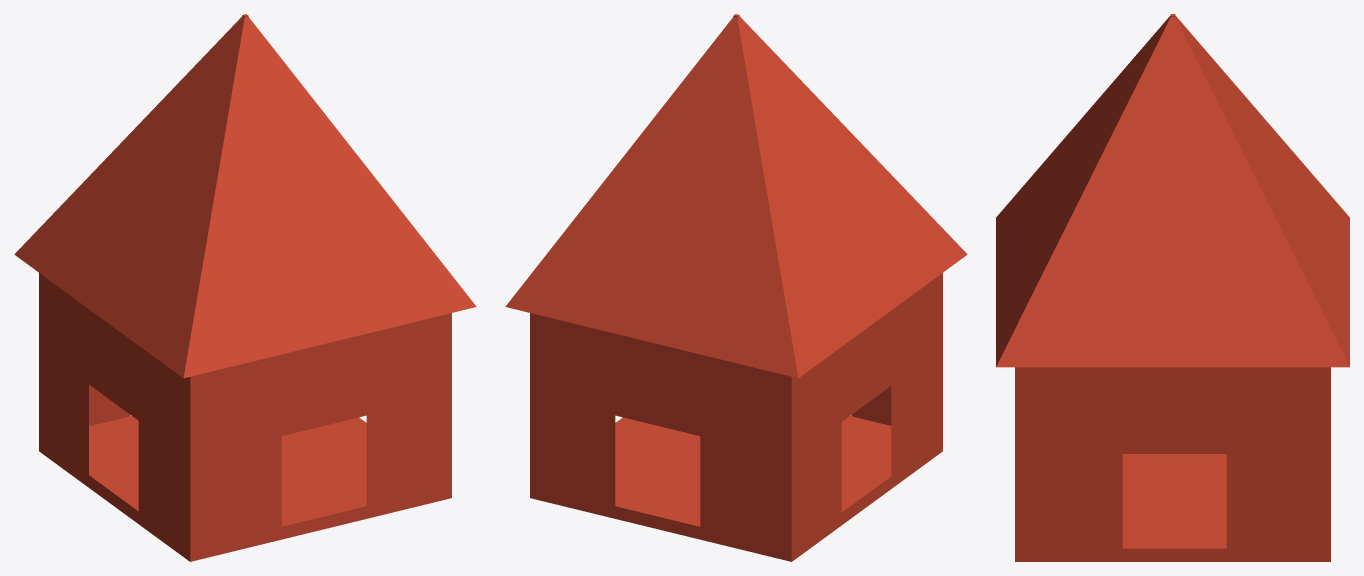
File: Home.fbx
3 views of the same model, side by side, from view 1: azimuth 30°, elevation 25°; view 2: azimuth 150°, elevation 25°; view 3: azimuth 270°, elevation 25° (orthographic). The views are drawn at different scales.
Visible parts, largest first — view 1: Home; view 2: Home; view 3: Home.
Boxes of the visible parts, x1,y1,x2,y2 form: Home: (14, 14, 476, 561); Home: (505, 14, 967, 561); Home: (996, 14, 1349, 561).
Size of the model in its own units: 200 by 299 by 200.
